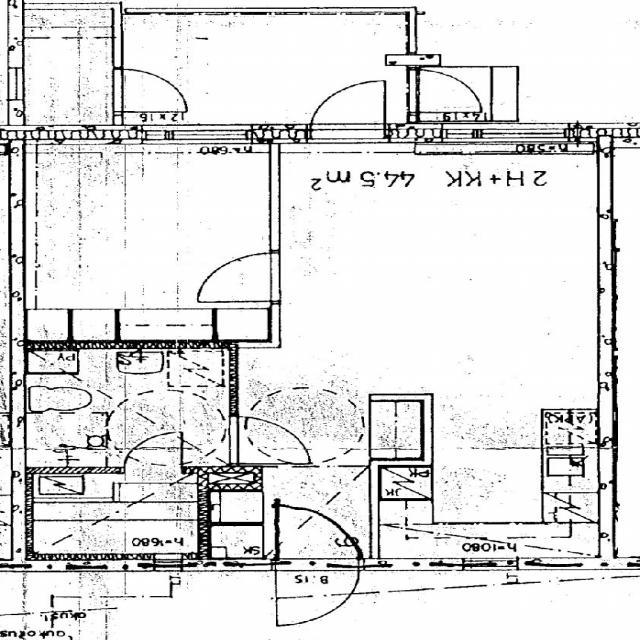door: (277, 504, 359, 569), (277, 558, 359, 622), (310, 76, 385, 144), (194, 252, 280, 300), (228, 416, 312, 463), (112, 68, 191, 112), (407, 69, 483, 113), (124, 430, 180, 474)
